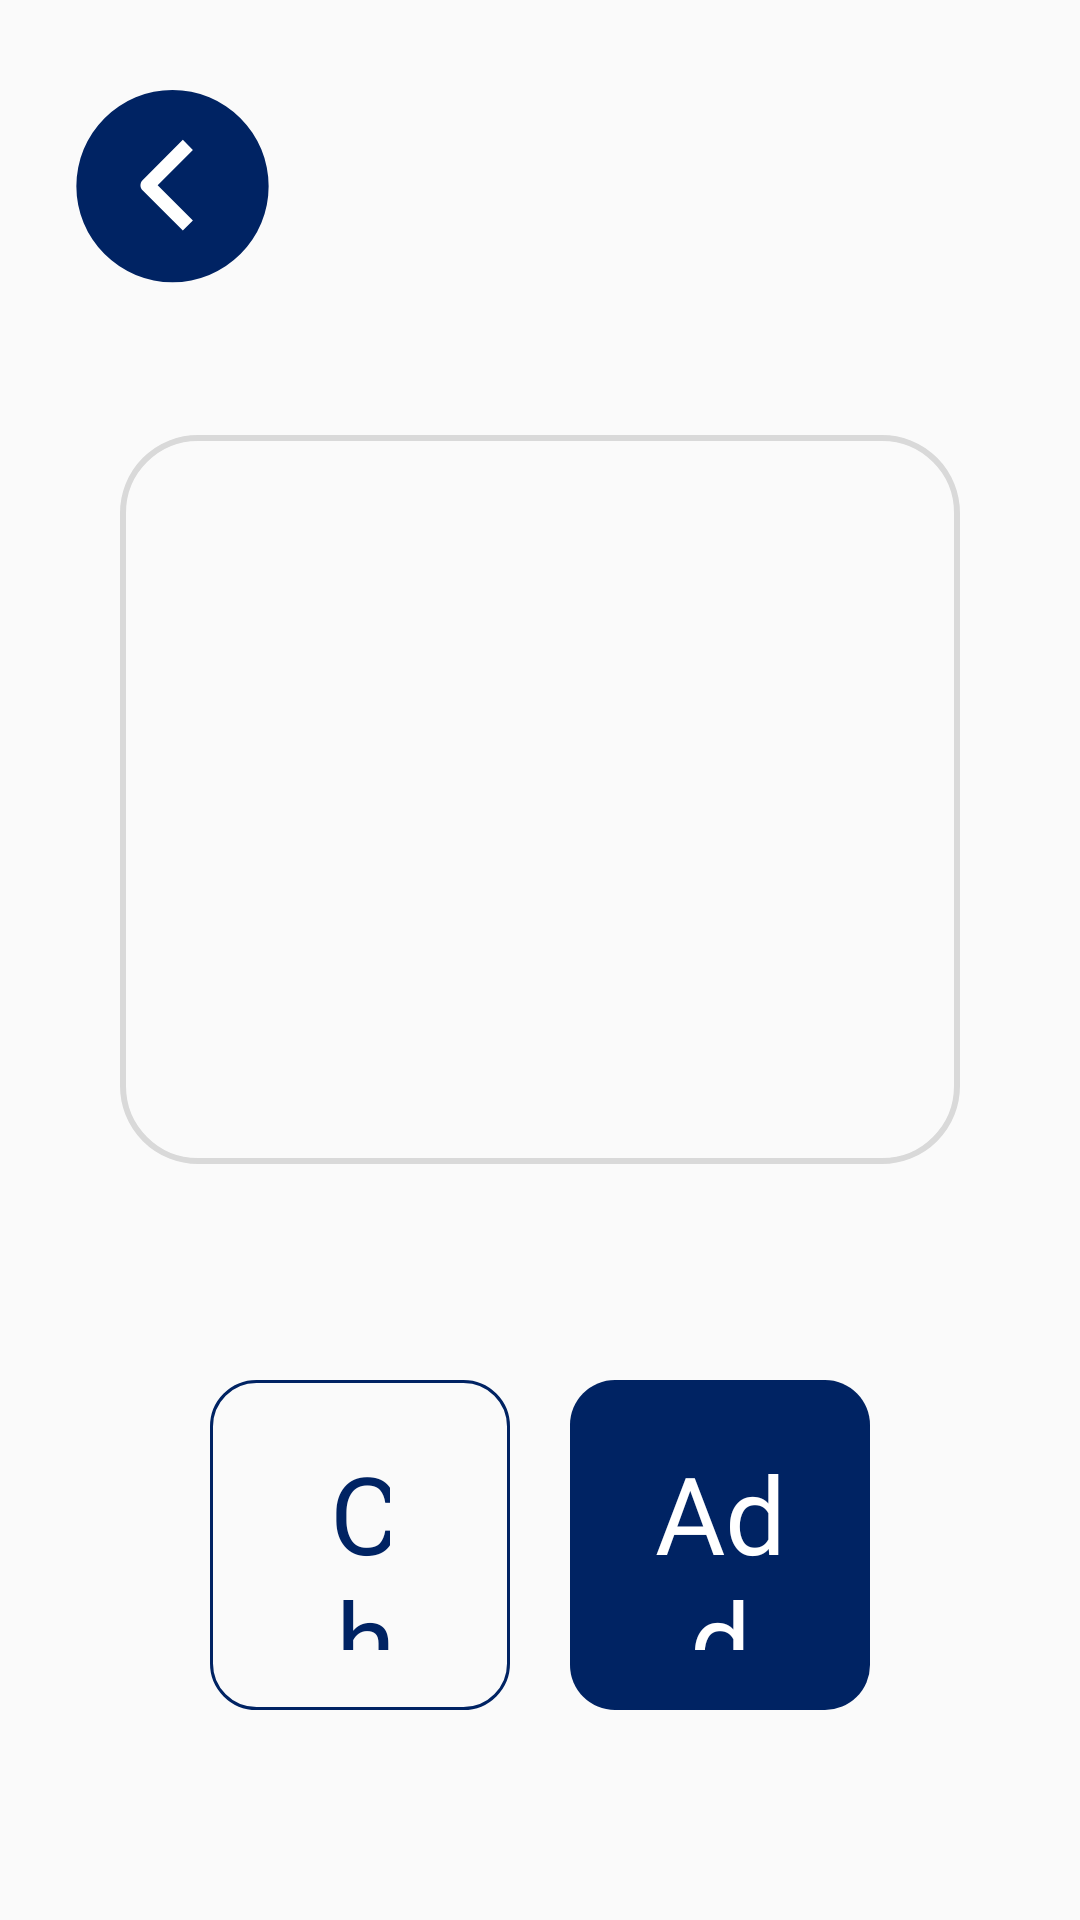

Point at icon controls on the screen. Image size 1080*1920, points as point (x, y).
circle left arrow: point (172, 186)
